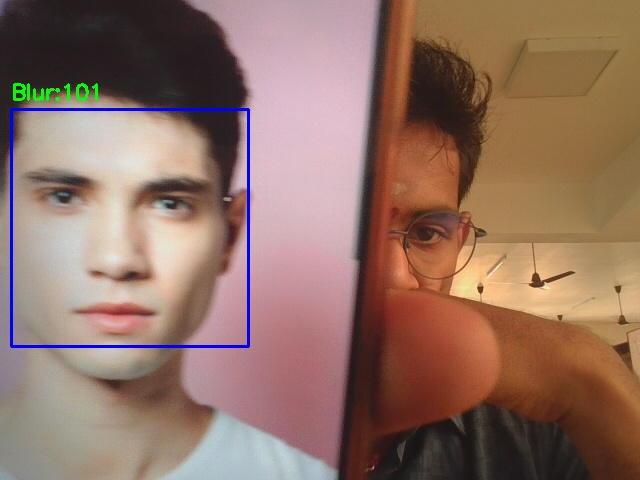fake: (11, 109, 248, 346)
